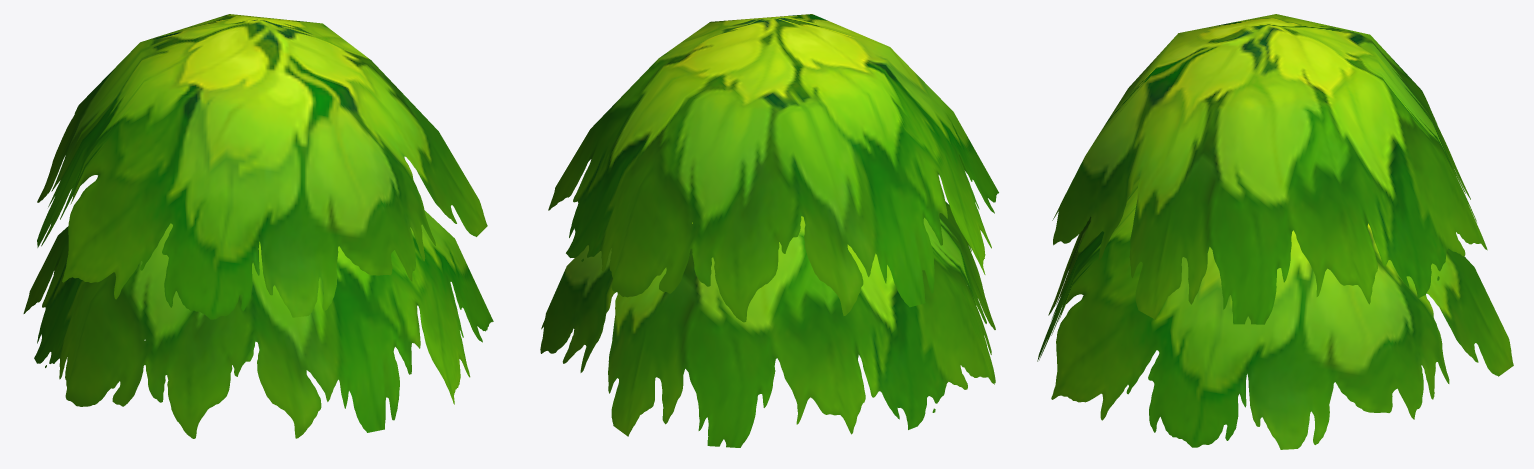
The model's file is Yegesl_zhiwu05.FBX.
3 views of the same model, side by side, from view 1: azimuth 30°, elevation 25°; view 2: azimuth 150°, elevation 25°; view 3: azimuth 270°, elevation 25° (orthographic).
Parts seen in each view (by area): view 1: Yegesl_zhiwu05; view 2: Yegesl_zhiwu05; view 3: Yegesl_zhiwu05.
Part boxes in pixels (x1=…): Yegesl_zhiwu05: x1=23, y1=14, x2=493, y2=438; Yegesl_zhiwu05: x1=540, y1=14, x2=998, y2=447; Yegesl_zhiwu05: x1=1037, y1=14, x2=1513, y2=449.
Size of the model in its own units: 46.25 by 47.09 by 35.23.
